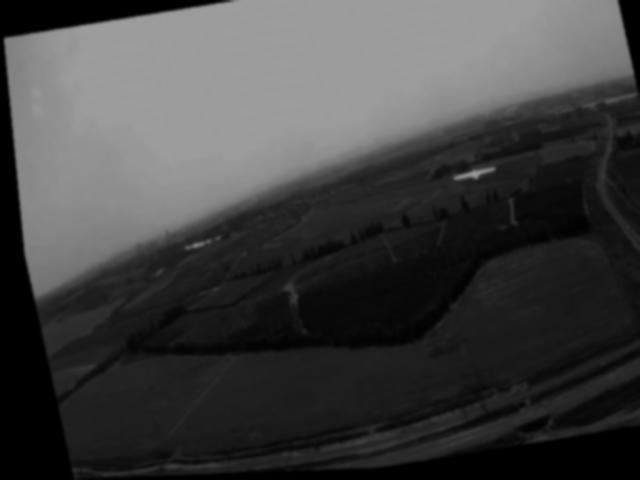hedef: (437, 164, 504, 190)
